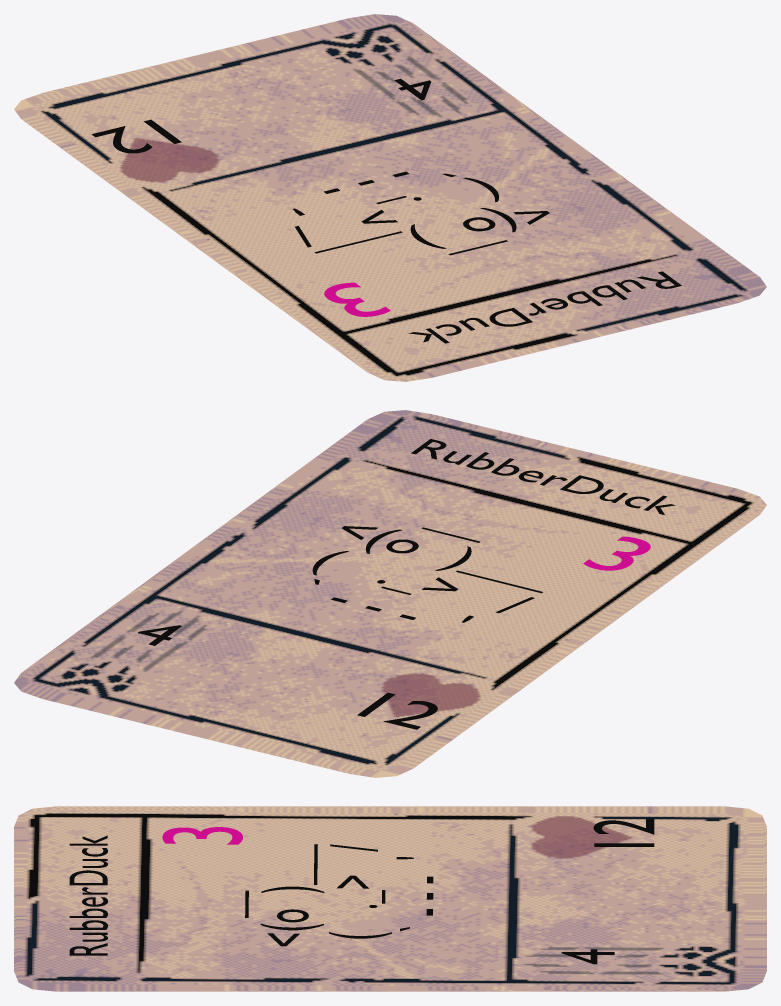
The model's file is RubberDuck.glb.
3 renders of one model, top to bottom at view 1: azimuth 30°, elevation 25°; view 2: azimuth 150°, elevation 25°; view 3: azimuth 270°, elevation 25°, orthographic. The views are drawn at different scales.
Parts seen in each view (by area): view 1: RubberDuck; view 2: RubberDuck; view 3: RubberDuck.
Boxes of the visible parts, box(x1,y1,x2,y2) form: RubberDuck: box(14, 14, 766, 381); RubberDuck: box(14, 410, 766, 777); RubberDuck: box(14, 806, 766, 991).
Size of what is drawn, in the model's own units: 44.93 by 0.4028 by 77.22.
5 materials, 1 textured.
